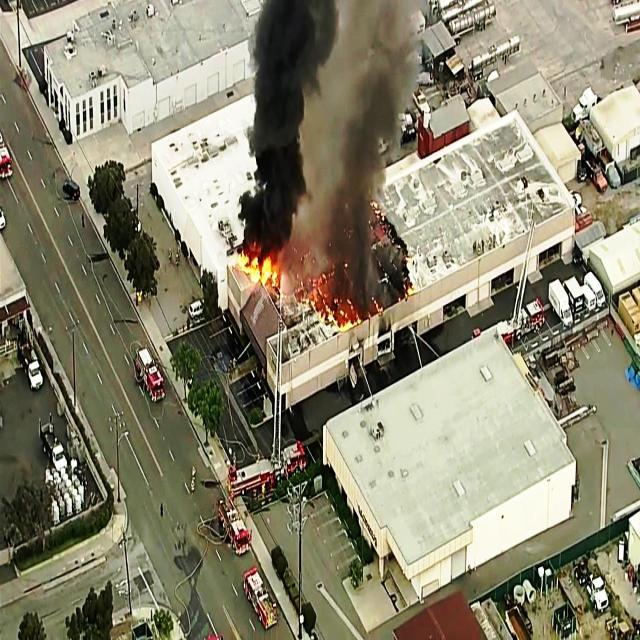Fire: (236, 240, 276, 285)
Smoke: (338, 16, 406, 284), (249, 0, 288, 228)
